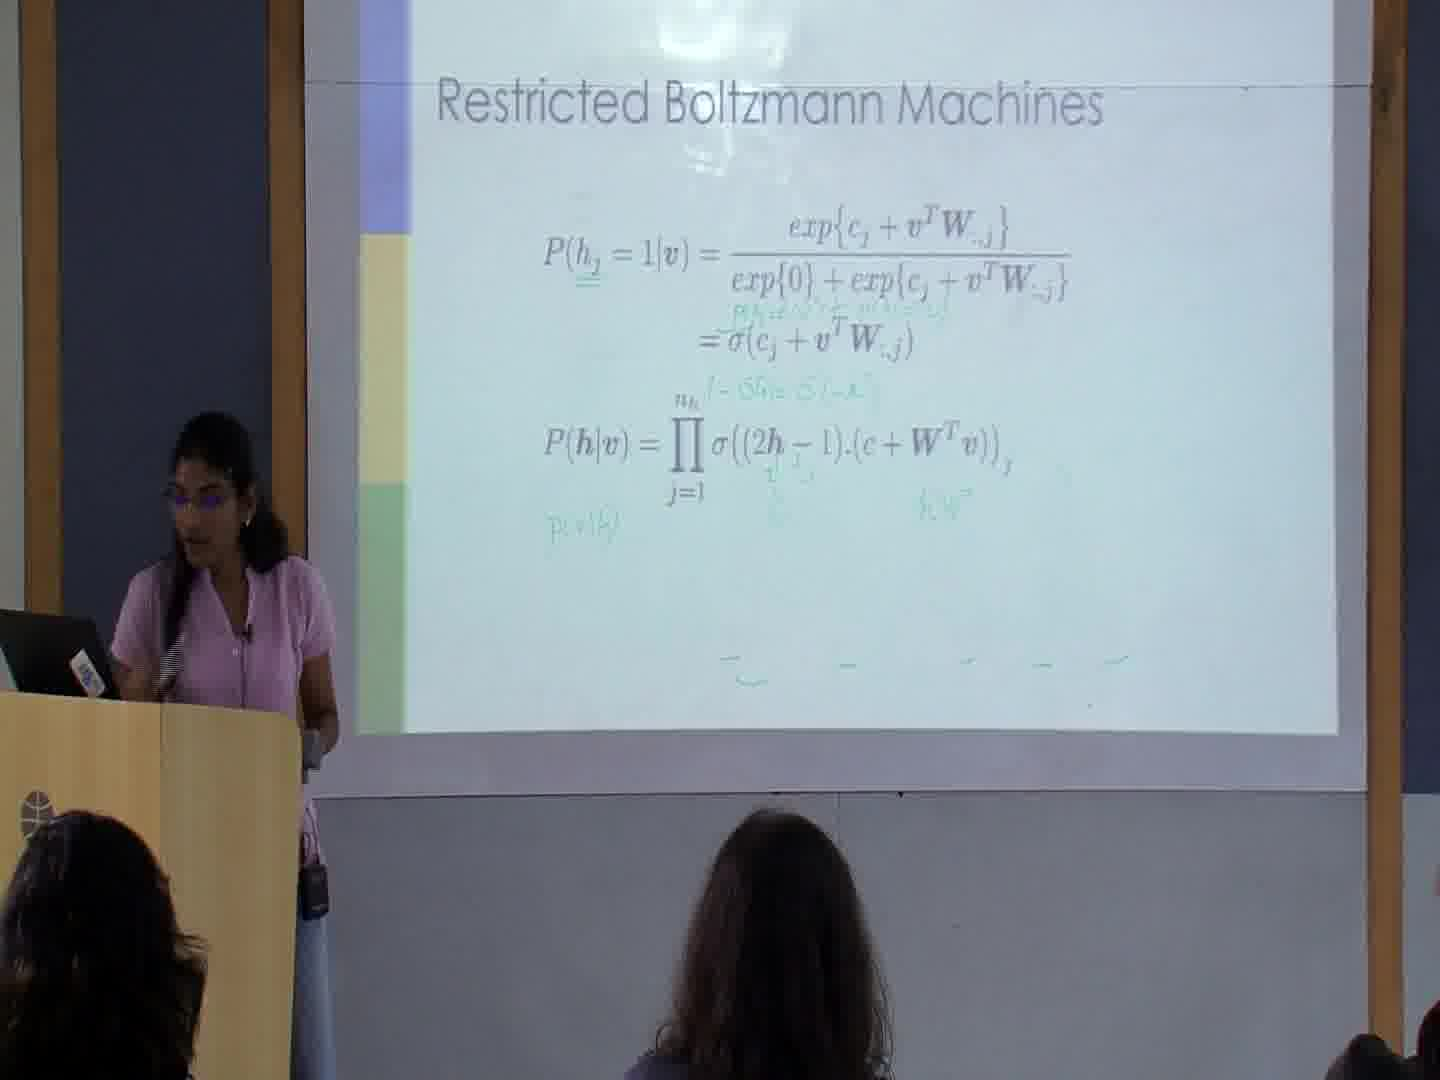eq: (536, 193, 1079, 307), (535, 390, 1014, 509), (695, 313, 921, 372)
